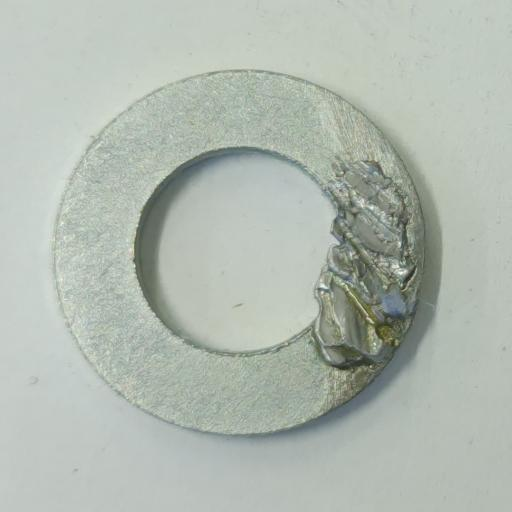excess_material: (313, 160, 421, 371)
